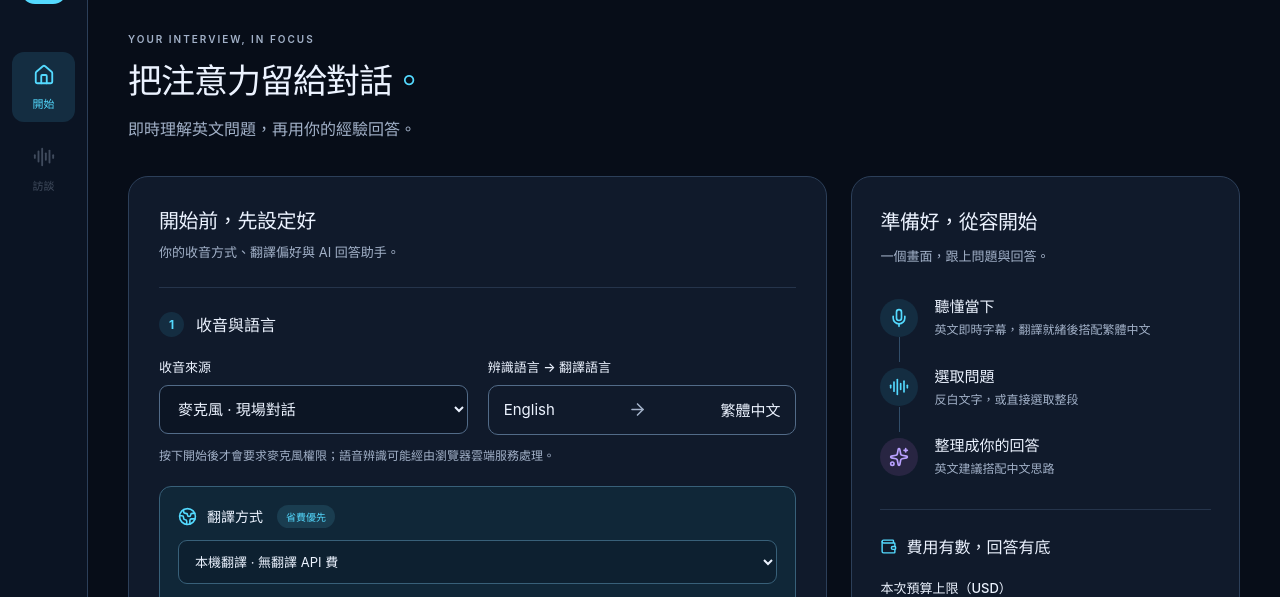
Test: explicit tab audio setup › uses demo with a tab preference without opening the picker or starting recognition
Select "會議分頁音訊 · 電腦 Chrome" in the dropdown labelled "收音來源" at (313, 410), box [159,385,468,434]
(page scrolled)
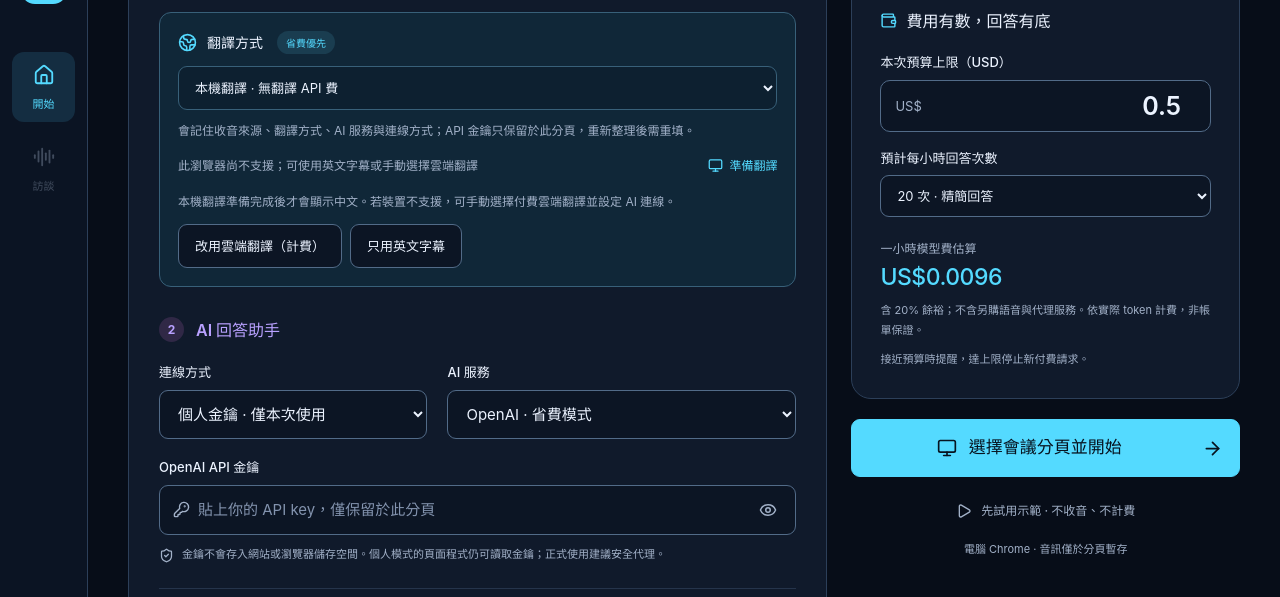
Click the button "先試用示範 · 不收音、不計費" at (1046, 511), box [851,489,1240,533]
(page scrolled)
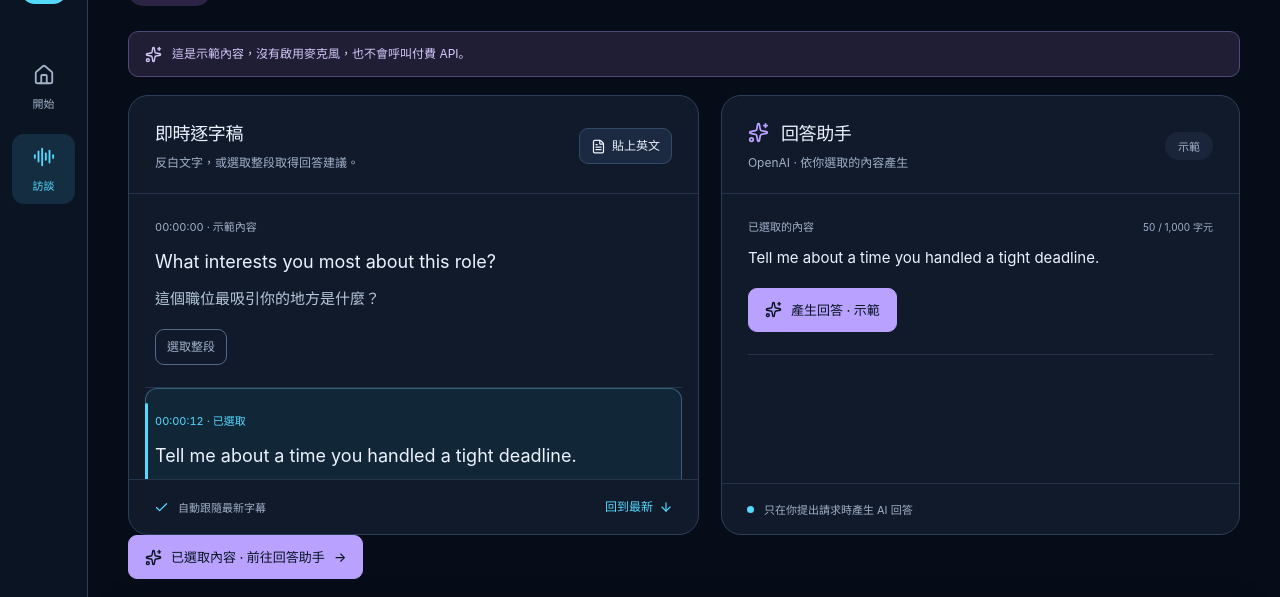
Now the element named "英中逐字稿" is shown, box [129,194,698,479]
